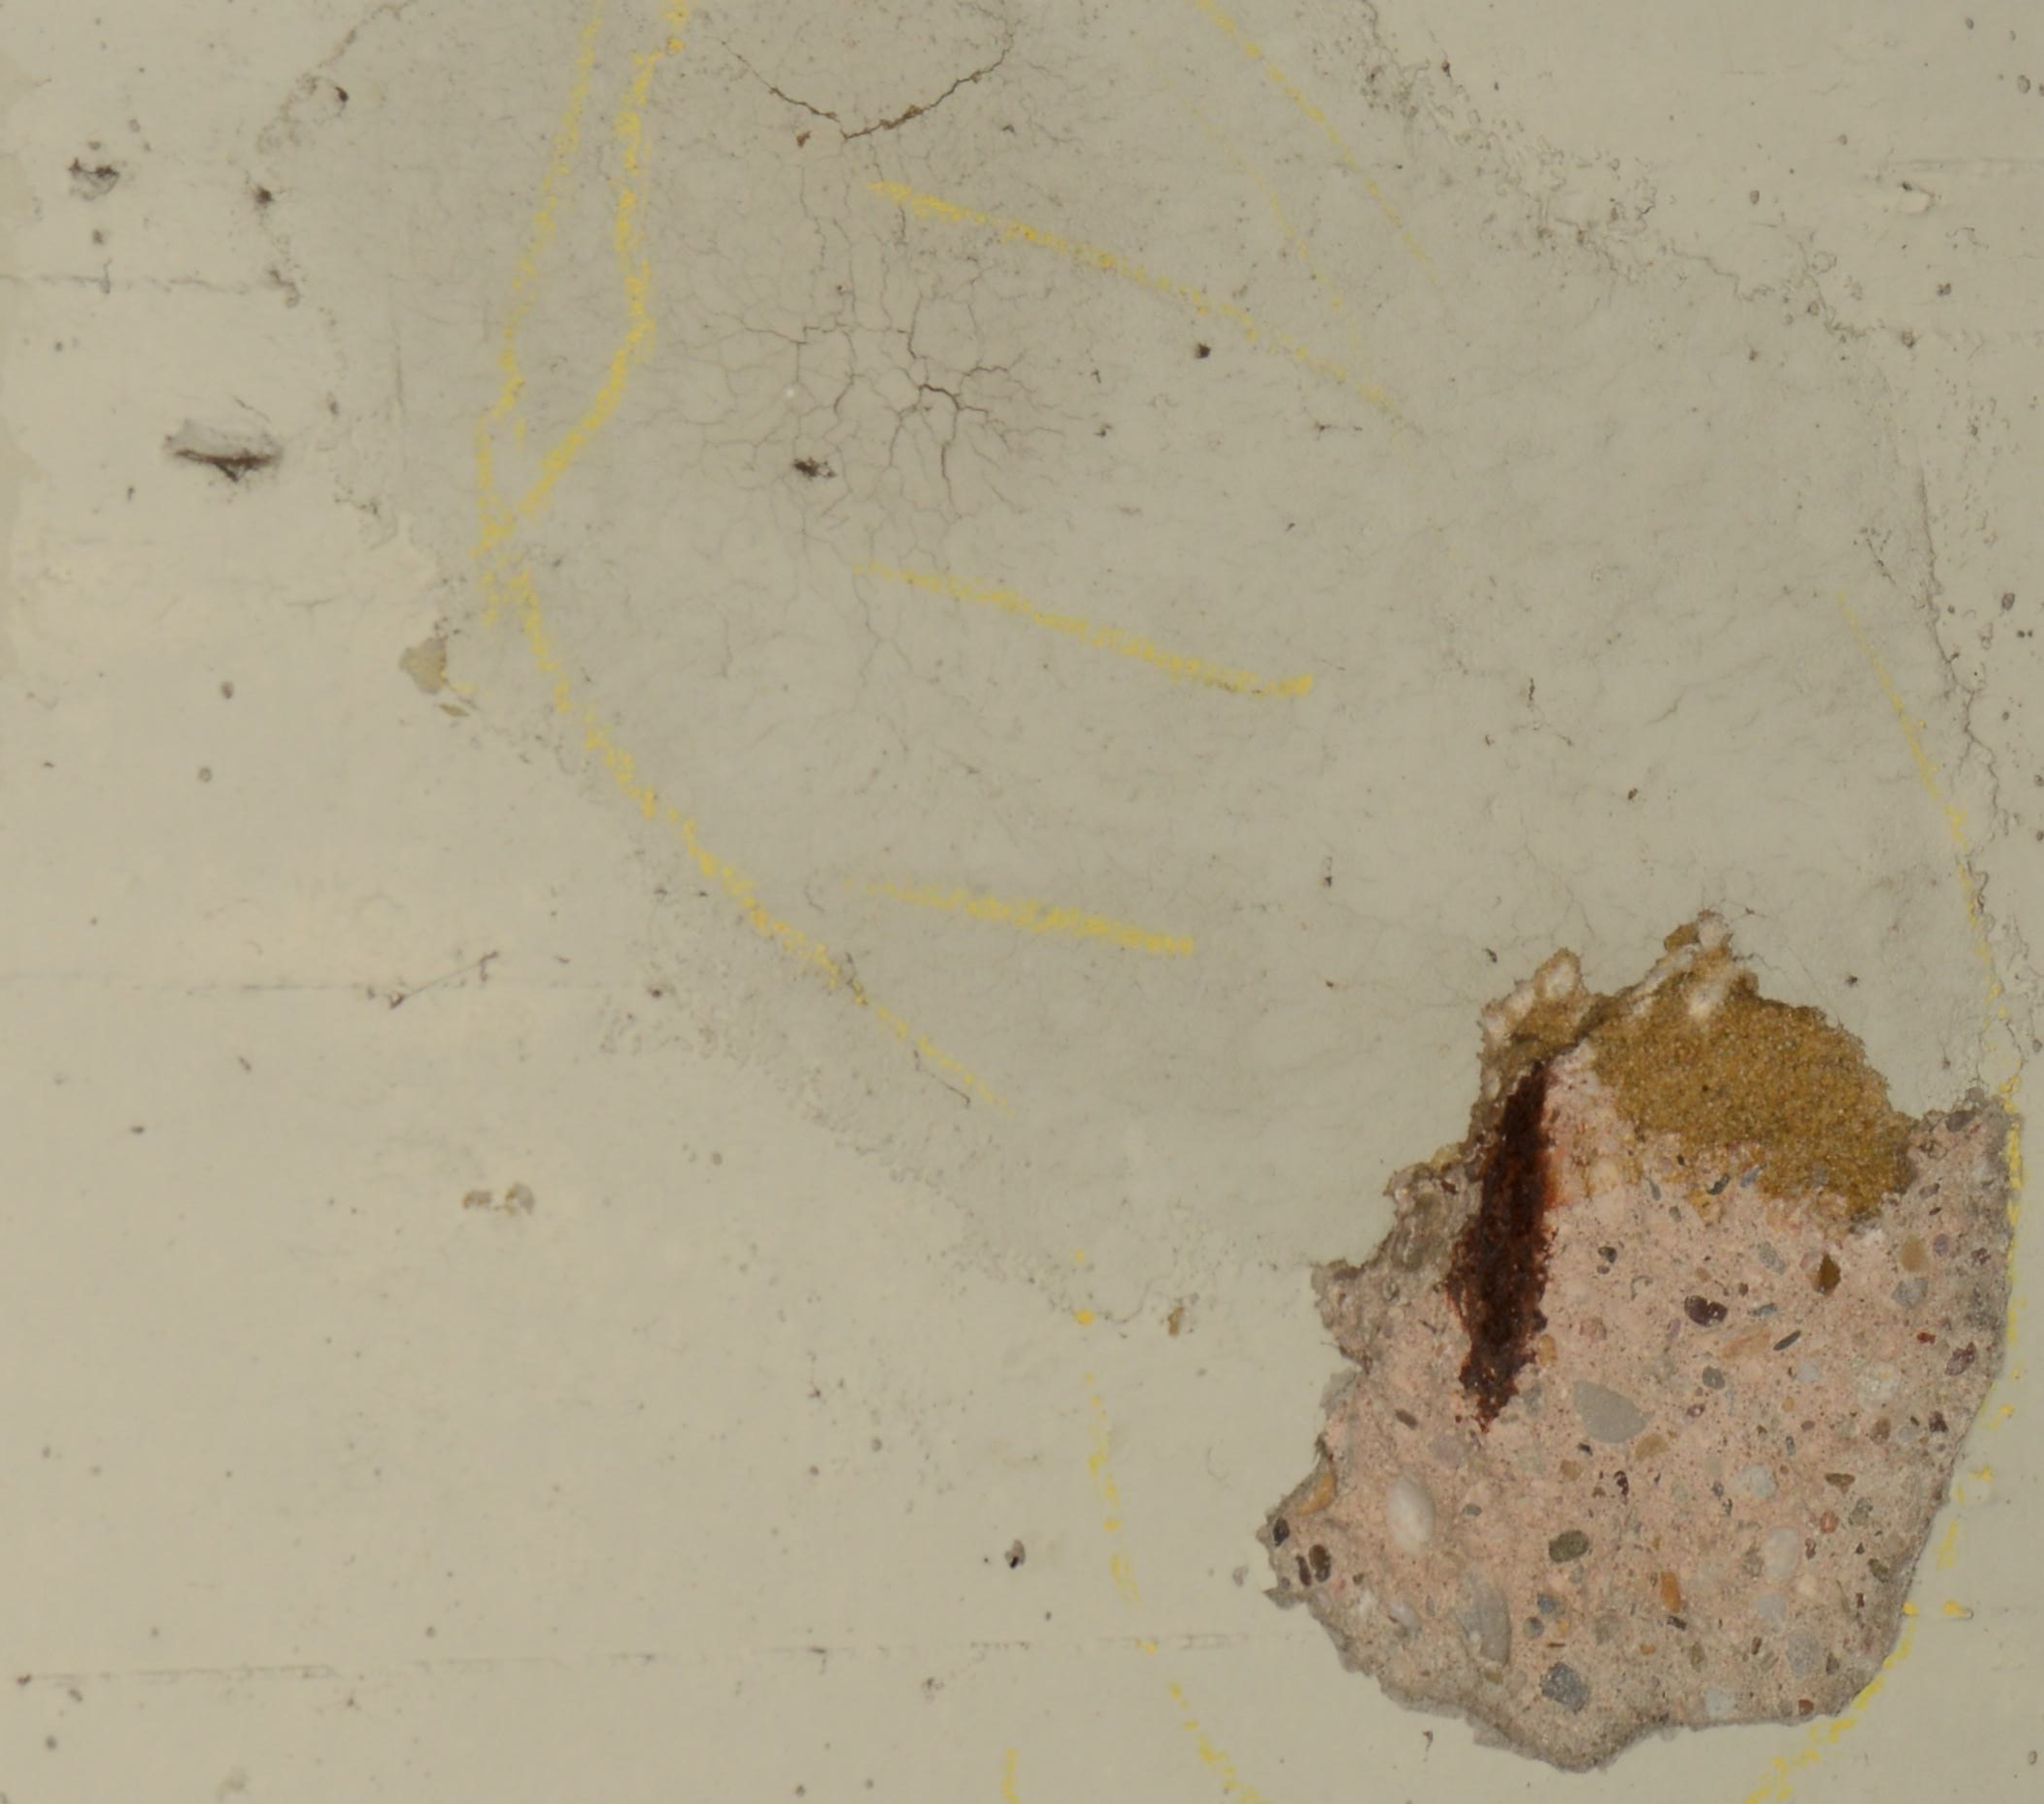Exposed reinforcement: (1447, 1059, 1546, 1433)
Spalling: (1250, 909, 2021, 1773)
